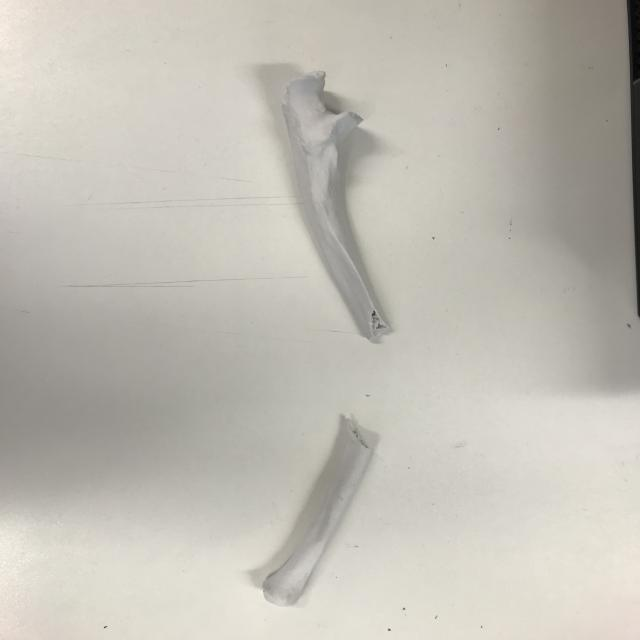bone: (277, 68, 402, 349), (241, 411, 381, 606)
